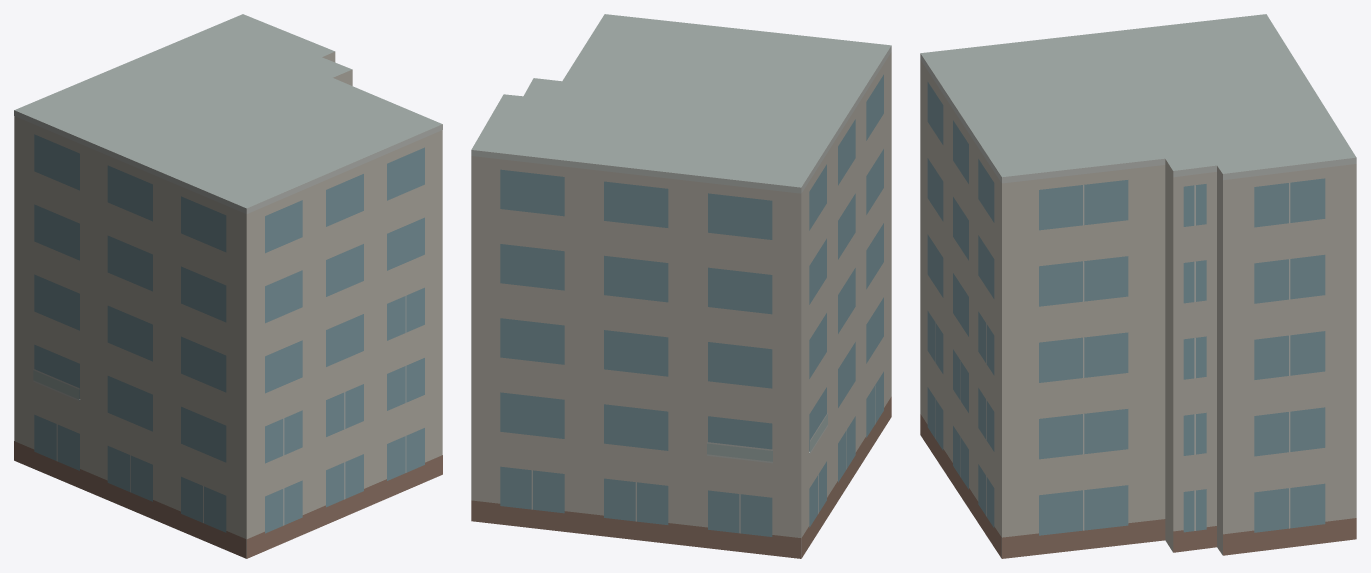
File: survey-upis-33044303.glb
The picture shows the model from 3 angles, left to right: view 1: azimuth 30°, elevation 25°; view 2: azimuth 150°, elevation 25°; view 3: azimuth 270°, elevation 25°; orthographic projection. The views are drawn at different scales.
Visible parts, largest first — view 1: survey-upis-33044303.tmp; view 2: survey-upis-33044303.tmp; view 3: survey-upis-33044303.tmp.
Boxes of the visible parts, x1=… form: survey-upis-33044303.tmp: x1=14, y1=14, x2=442, y2=558; survey-upis-33044303.tmp: x1=471, y1=14, x2=891, y2=558; survey-upis-33044303.tmp: x1=920, y1=14, x2=1356, y2=558.
Size of the model in its own units: 13.68 by 14.9 by 15.45.
